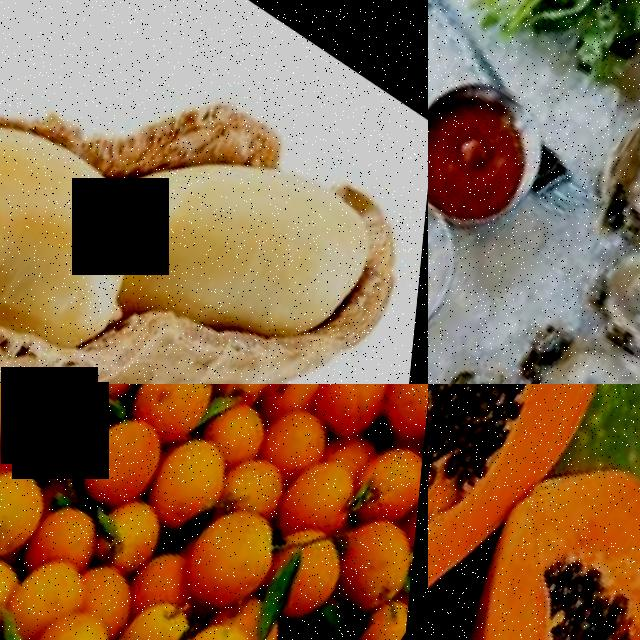orange: (177, 477, 302, 615), (74, 388, 184, 513), (143, 412, 247, 532), (326, 490, 423, 611), (2, 535, 96, 640), (279, 433, 376, 534), (93, 483, 181, 576), (351, 412, 428, 511), (0, 449, 64, 558), (36, 487, 116, 573), (198, 384, 283, 463), (26, 582, 140, 640), (128, 384, 230, 438), (0, 384, 76, 452), (304, 384, 405, 433), (176, 595, 282, 640), (374, 384, 428, 430)
oysters: (502, 287, 640, 384), (588, 32, 640, 254), (587, 183, 640, 381)
pawpaw: (428, 384, 640, 640), (428, 406, 640, 640)
peanuts: (77, 62, 413, 384), (0, 53, 169, 380)
